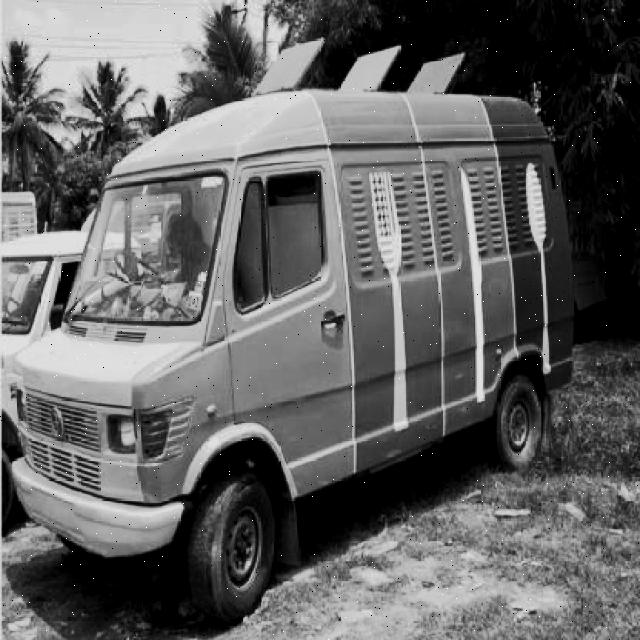HCV: (103, 204, 443, 640)
